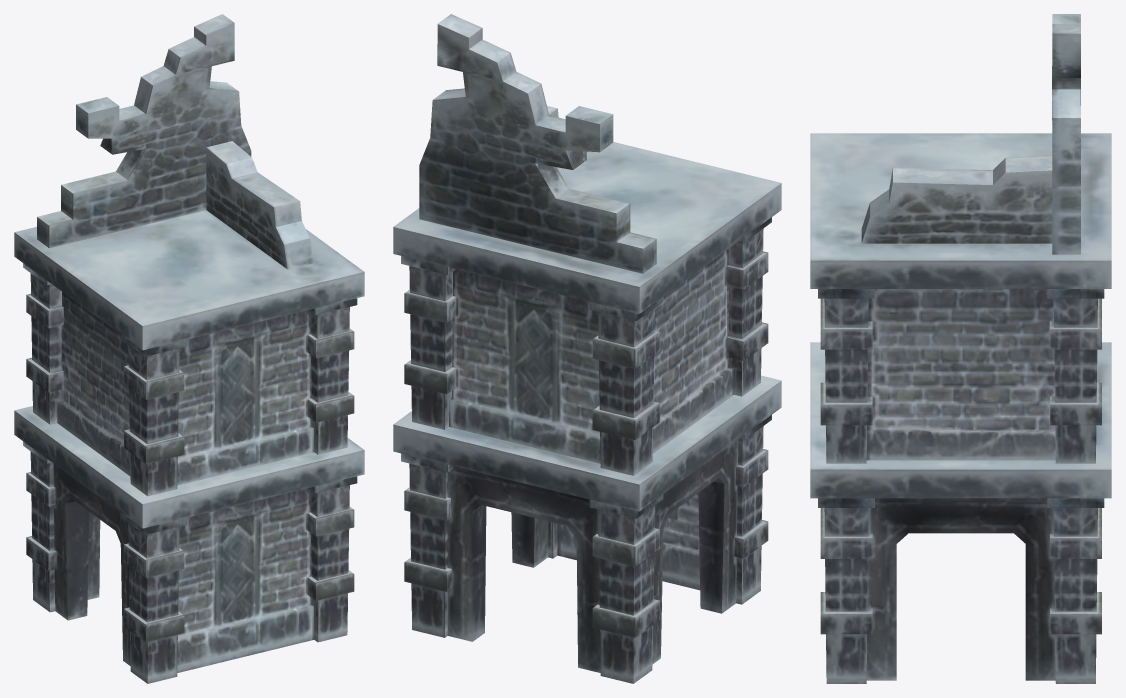
File: rzjd_poqiang_01.FBX
3 views of the same model, side by side, from view 1: azimuth 30°, elevation 25°; view 2: azimuth 150°, elevation 25°; view 3: azimuth 270°, elevation 25° (orthographic). The views are drawn at different scales.
Parts seen in each view (by area): view 1: rzjd_poqiang_01; view 2: rzjd_poqiang_01; view 3: rzjd_poqiang_01.
Part boxes in pixels (x1,y1,x2,y2): rzjd_poqiang_01: (14, 14, 364, 683); rzjd_poqiang_01: (393, 14, 781, 683); rzjd_poqiang_01: (810, 14, 1111, 683).
Bounding box in the file's own units: 586 × 1376 × 586.
